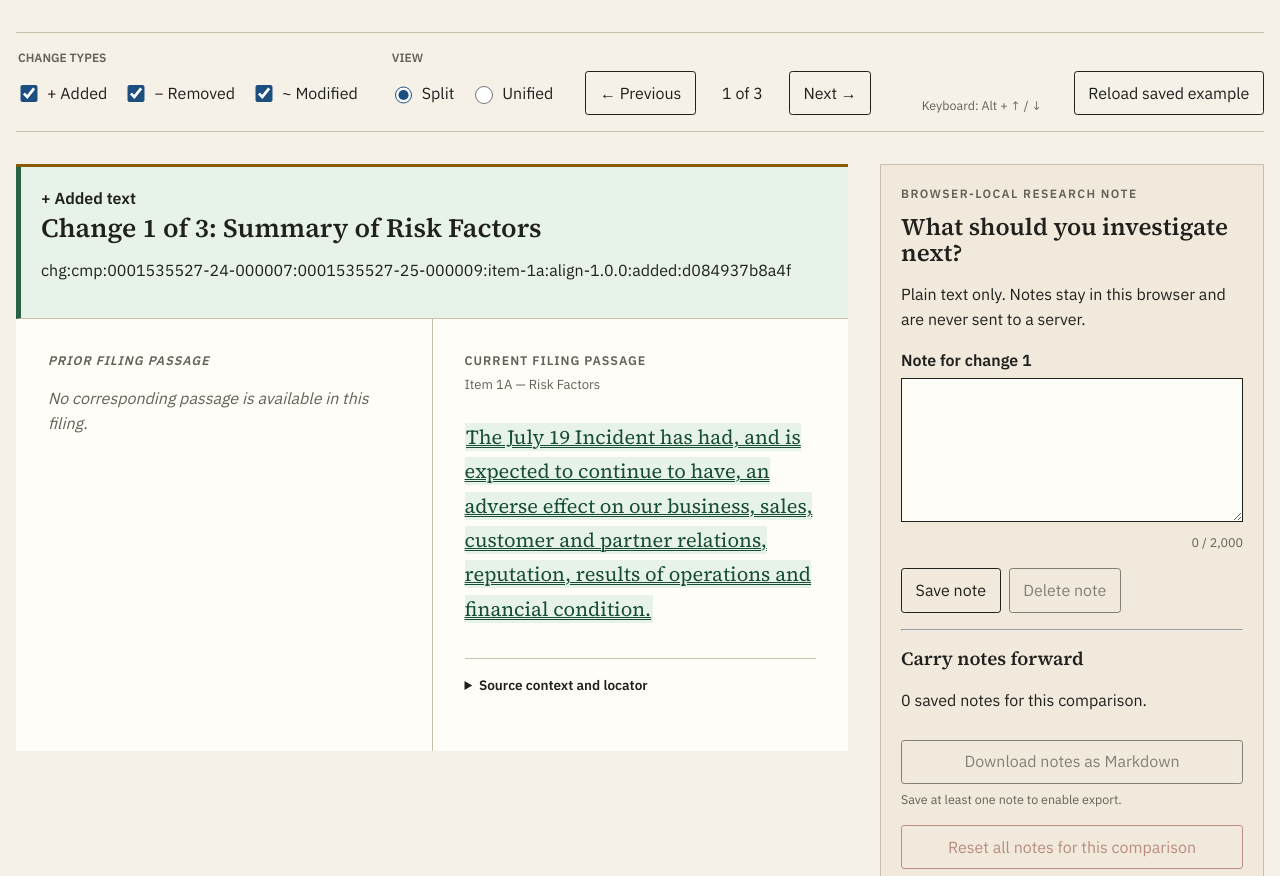
Test case: P-01/P-05/P-11/QA-04 comparison workspace › saves a plain-text note locally and enables export
This screenshot has width=1280, height=876.
(page scrolled)
Type "Check this wording against the service-disruption discussion" into the text box labelled "Note for change 1".
click(1072, 450); type("Check this wording against the service-disruption discussion")  # box [901, 378, 1243, 522]
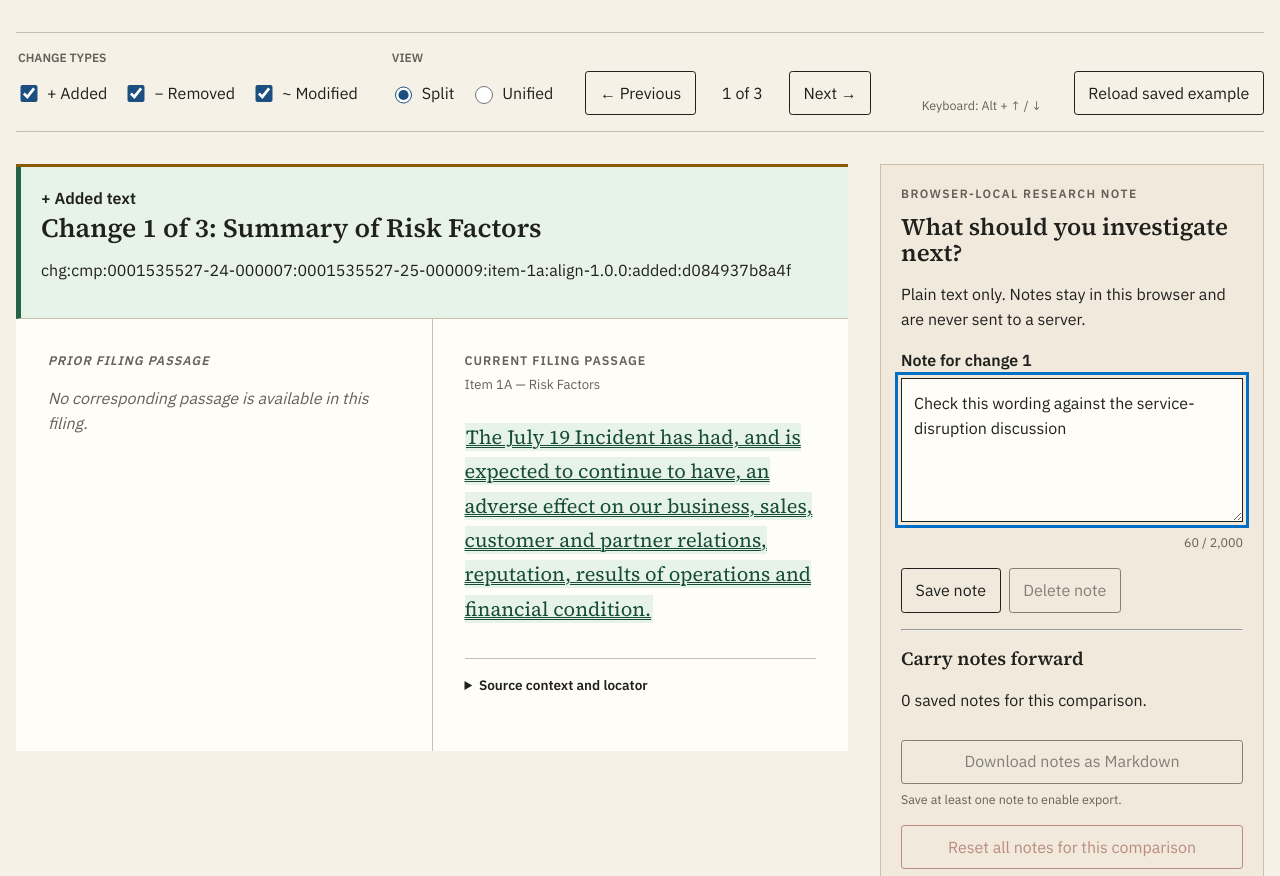
Click the button "Save note".
click(951, 591)  # box [901, 568, 1001, 613]
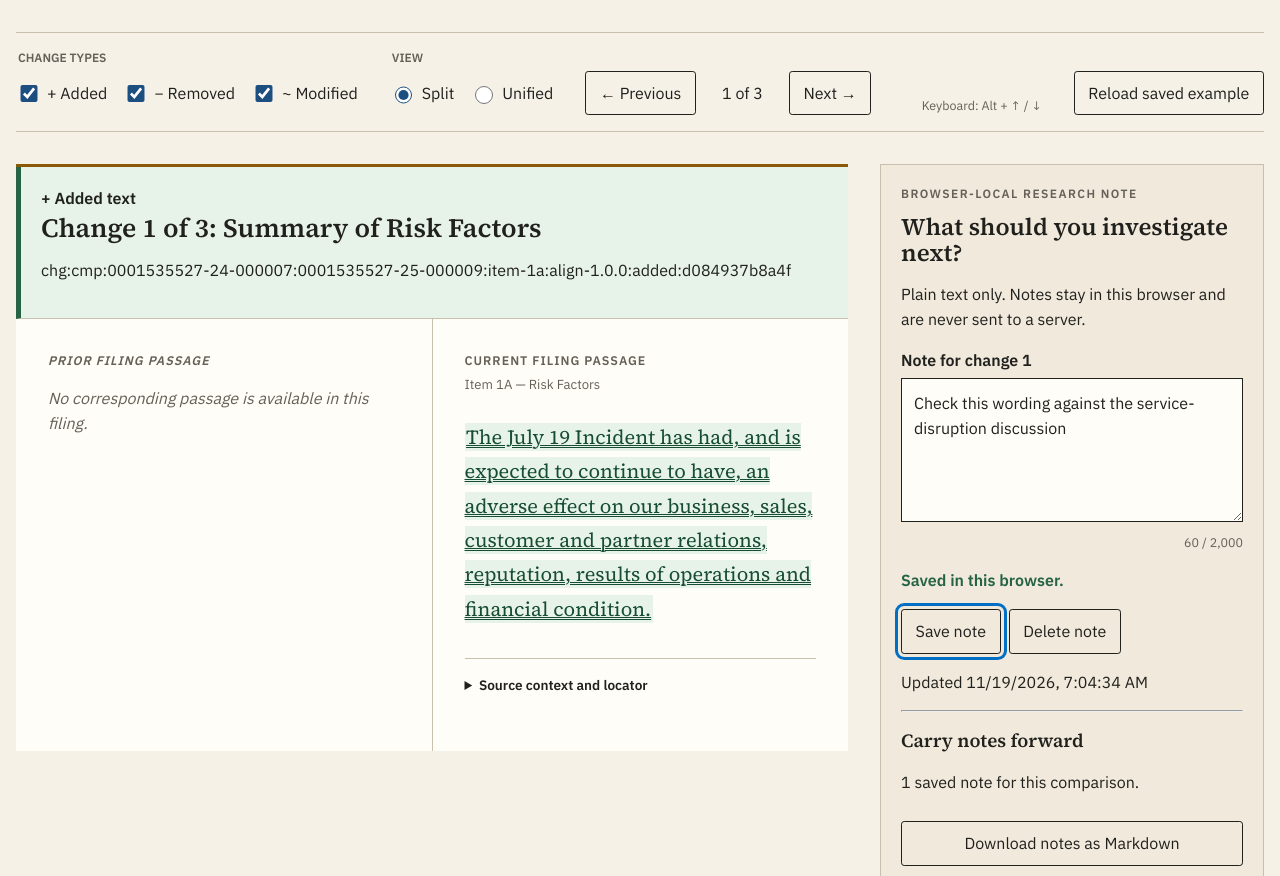
Expected: the text "Saved in this browser." is shown, [901, 570, 1064, 590]
Expected: the button "Download notes as Markdown" is enabled, [901, 821, 1243, 866]
